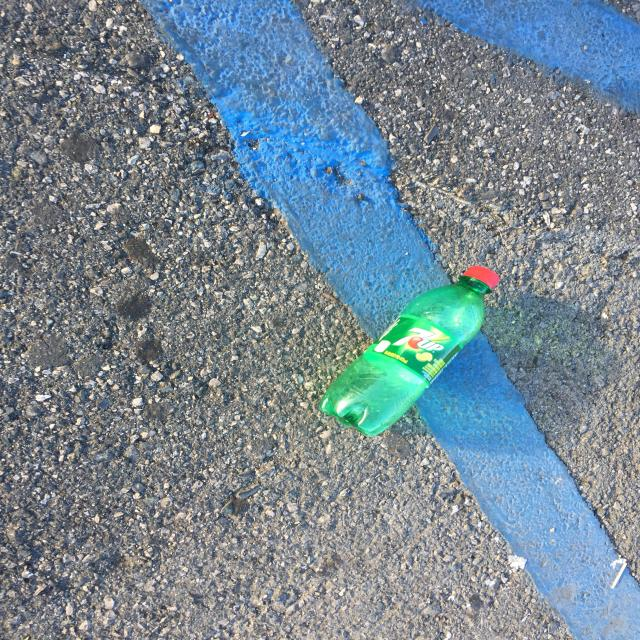litter: (355, 106, 581, 243)
